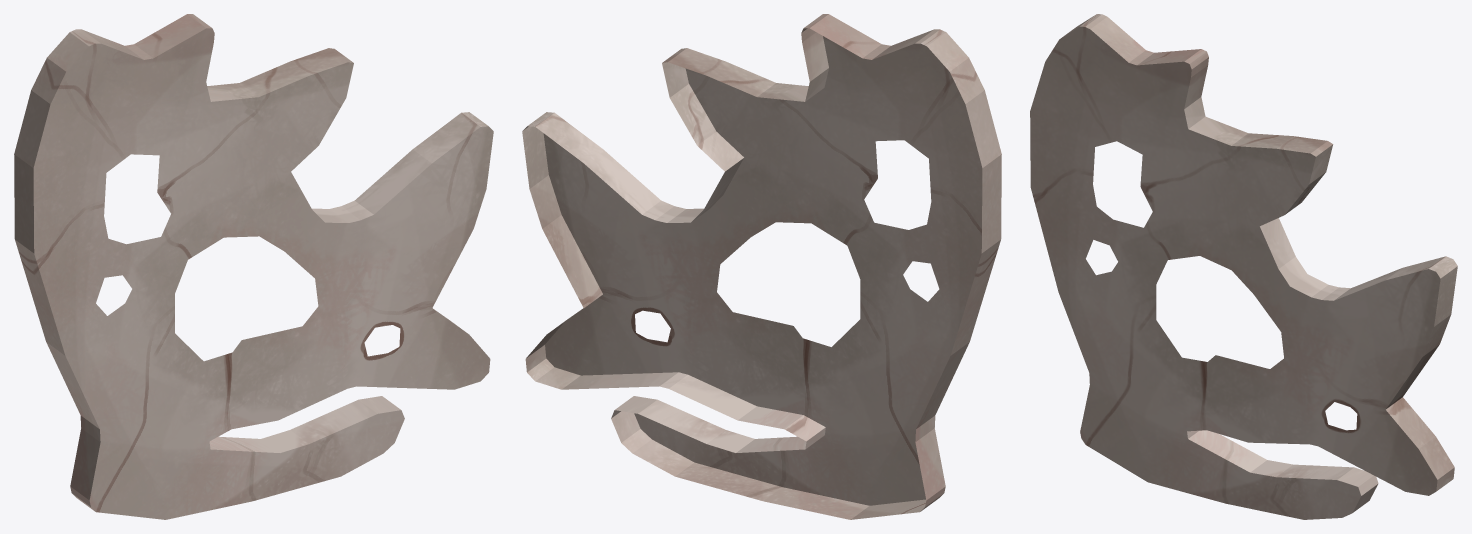
Rendered from trike.fbx.
The picture shows the model from 3 angles, left to right: view 1: azimuth 30°, elevation 25°; view 2: azimuth 150°, elevation 25°; view 3: azimuth 330°, elevation 25°; orthographic projection. The views are drawn at different scales.
Parts seen in each view (by area): view 1: Line001; view 2: Line001; view 3: Line001.
Part boxes in pixels (x1,y1,x2,y2): Line001: (14,14,493,519); Line001: (522,14,1001,519); Line001: (1030,14,1457,519).
Bounding box in the file's own units: 43.21 × 44.5 × 3.15.
